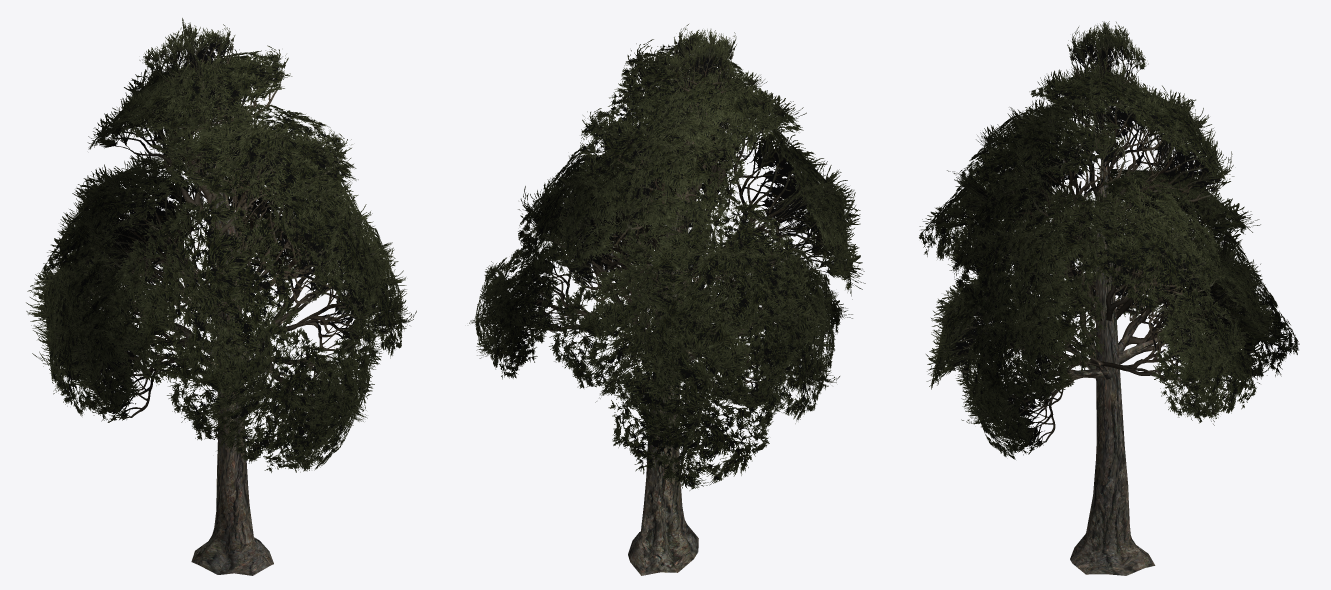
The model's file is Con_02_b_N.fbx.
3 renders of one model, left to right at view 1: azimuth 30°, elevation 25°; view 2: azimuth 150°, elevation 25°; view 3: azimuth 270°, elevation 25°, orthographic. The views are drawn at different scales.
Parts seen in each view (by area): view 1: Con_02_b, Con_02_Trunk_b; view 2: Con_02_b, Con_02_Trunk_b; view 3: Con_02_b, Con_02_Trunk_b.
Boxes of the visible parts, bbox=[...] form: Con_02_b: bbox=[26, 18, 416, 472]; Con_02_Trunk_b: bbox=[153, 119, 286, 575]; Con_02_b: bbox=[469, 24, 865, 490]; Con_02_Trunk_b: bbox=[628, 141, 698, 575]; Con_02_b: bbox=[919, 21, 1299, 459]; Con_02_Trunk_b: bbox=[1056, 114, 1160, 575].
Size of what is drawn, in the model's own units: 2009 by 3073 by 2195.
Materials: 2 (2 with a texture image).
